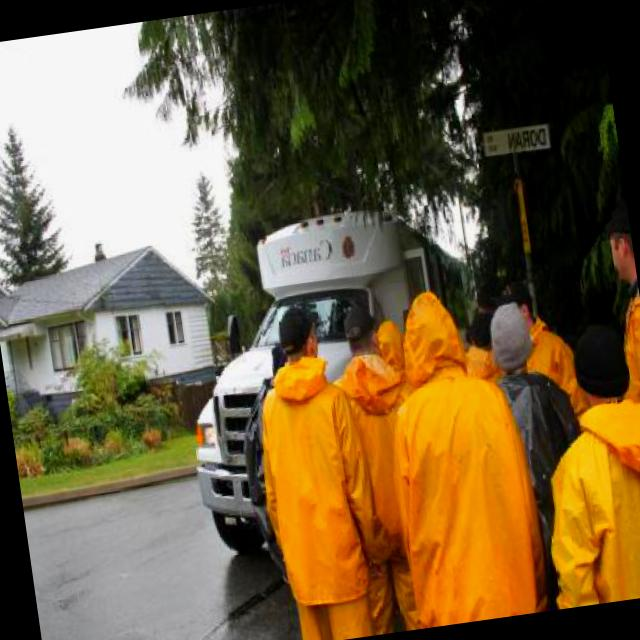Person: (230, 199, 640, 640)
